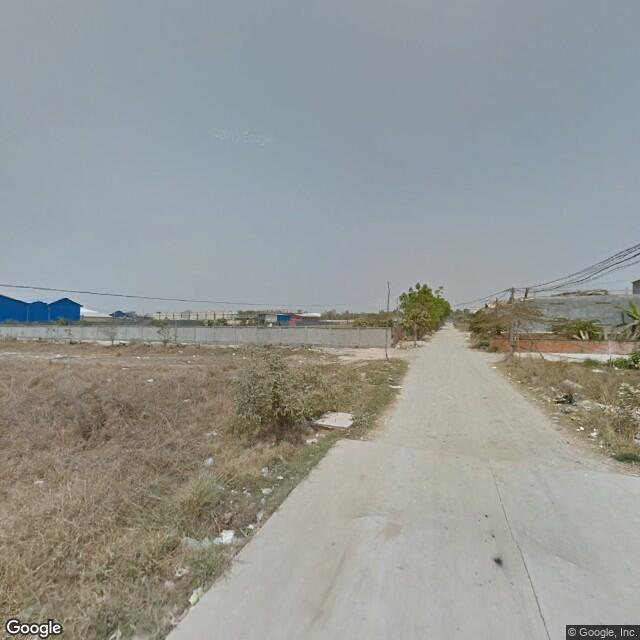litter: (178, 534, 248, 548), (159, 560, 193, 587), (256, 476, 270, 529), (591, 426, 607, 447), (188, 591, 205, 609), (34, 474, 52, 487), (305, 435, 317, 444), (205, 458, 217, 464)
